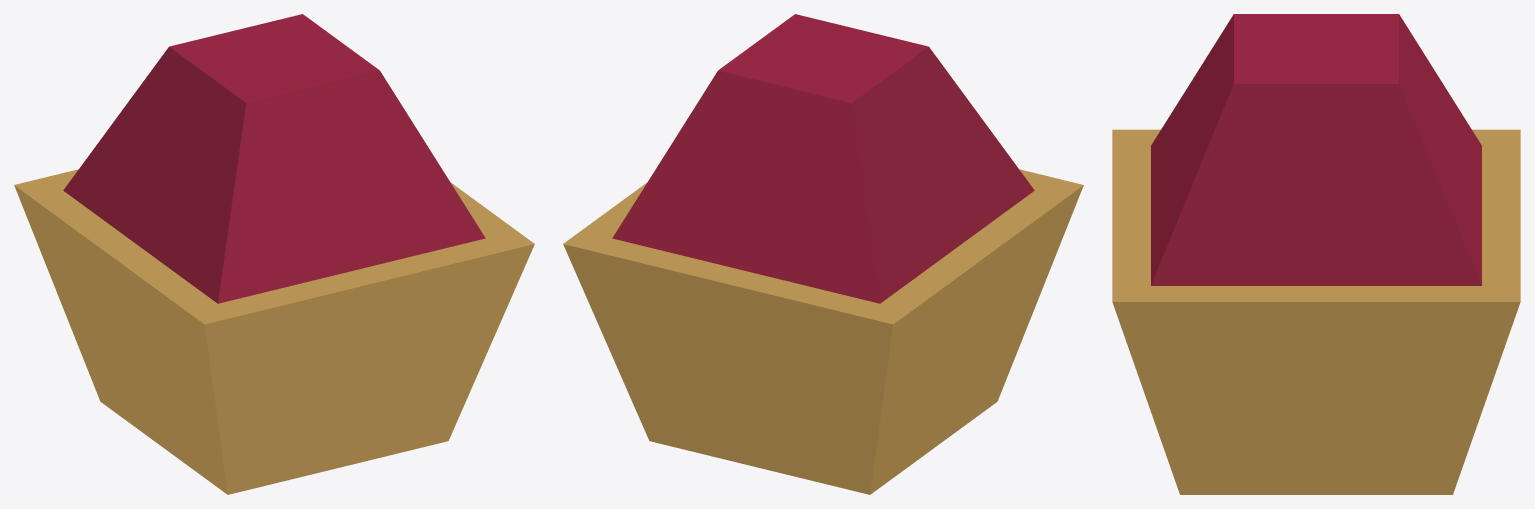
File: Cupcake2.glb
3 renders of one model, left to right at view 1: azimuth 30°, elevation 25°; view 2: azimuth 150°, elevation 25°; view 3: azimuth 270°, elevation 25°, orthographic. The views are drawn at different scales.
Parts seen in each view (by area): view 1: SI_Food_Bakery_Cupcake_02; view 2: SI_Food_Bakery_Cupcake_02; view 3: SI_Food_Bakery_Cupcake_02.
Part boxes in pixels (bbox=[...]): SI_Food_Bakery_Cupcake_02: bbox=[14, 14, 534, 494]; SI_Food_Bakery_Cupcake_02: bbox=[563, 14, 1083, 494]; SI_Food_Bakery_Cupcake_02: bbox=[1112, 14, 1520, 494].
Size of the model in its own units: 0.00215 by 0.00226 by 0.00215.
1 material, 1 textured.
